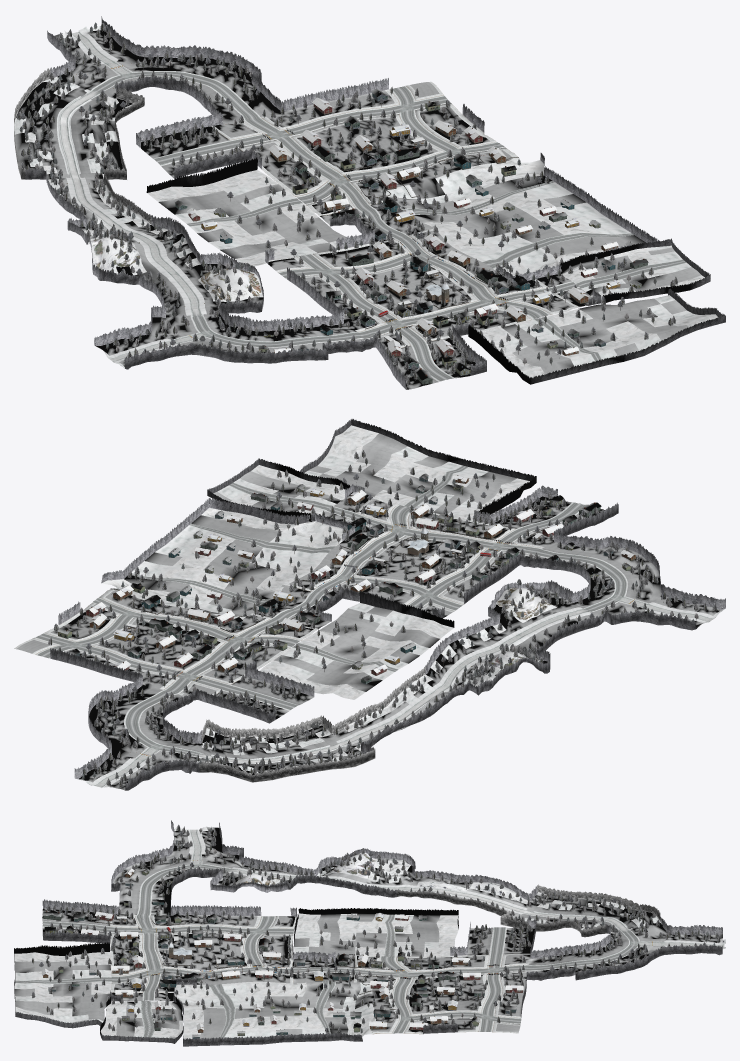
Rendered from sweden_stage7_visual.glb.
3 views of the same model, one above another, from view 1: azimuth 30°, elevation 25°; view 2: azimuth 150°, elevation 25°; view 3: azimuth 270°, elevation 25° (orthographic). The views are drawn at different scales.
Visible parts, largest first — view 1: Track_Road_And_Terrain, Foliage_And_Vegetation, Buildings_And_Structures, Fences_And_Barriers; view 2: Track_Road_And_Terrain, Foliage_And_Vegetation, Buildings_And_Structures, Fences_And_Barriers; view 3: Track_Road_And_Terrain, Foliage_And_Vegetation, Buildings_And_Structures, Fences_And_Barriers.
Part boxes in pixels (box(x1,y1,x2,y2)): Track_Road_And_Terrain: box(14, 16, 718, 389); Foliage_And_Vegetation: box(17, 22, 725, 385); Buildings_And_Structures: box(175, 88, 648, 384); Fences_And_Barriers: box(76, 65, 524, 367); Track_Road_And_Terrain: box(14, 425, 725, 790); Foliage_And_Vegetation: box(48, 419, 716, 787); Buildings_And_Structures: box(57, 473, 636, 684); Fences_And_Barriers: box(110, 506, 634, 756); Track_Road_And_Terrain: box(14, 820, 725, 1046); Foliage_And_Vegetation: box(14, 824, 720, 1043); Buildings_And_Structures: box(41, 868, 523, 1038); Fences_And_Barriers: box(64, 860, 652, 1032).
Bounding box in the file's own units: 610 × 52.66 × 889.
65 materials, 65 textured.
